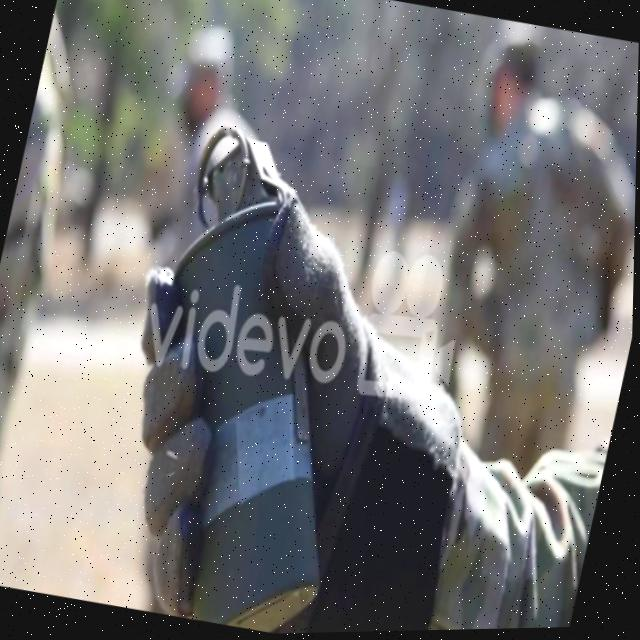grenade: (76, 94, 422, 638)
